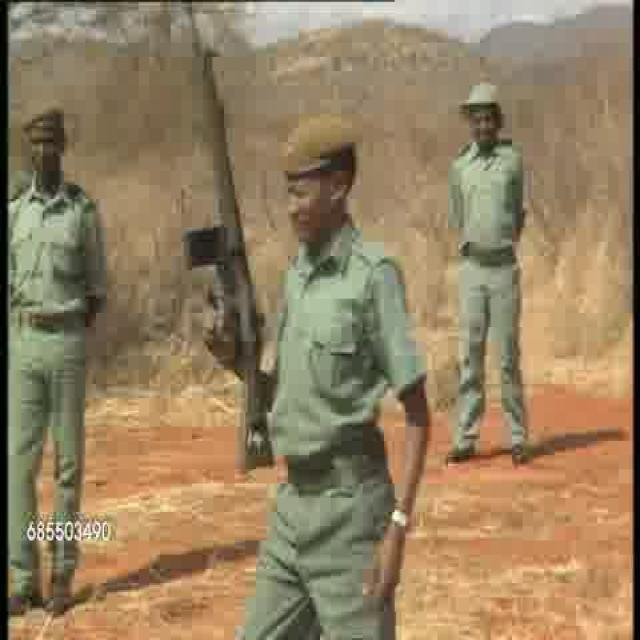poacher: (265, 103, 432, 640), (8, 94, 110, 619), (442, 74, 550, 478)
weapon: (178, 2, 282, 466)
